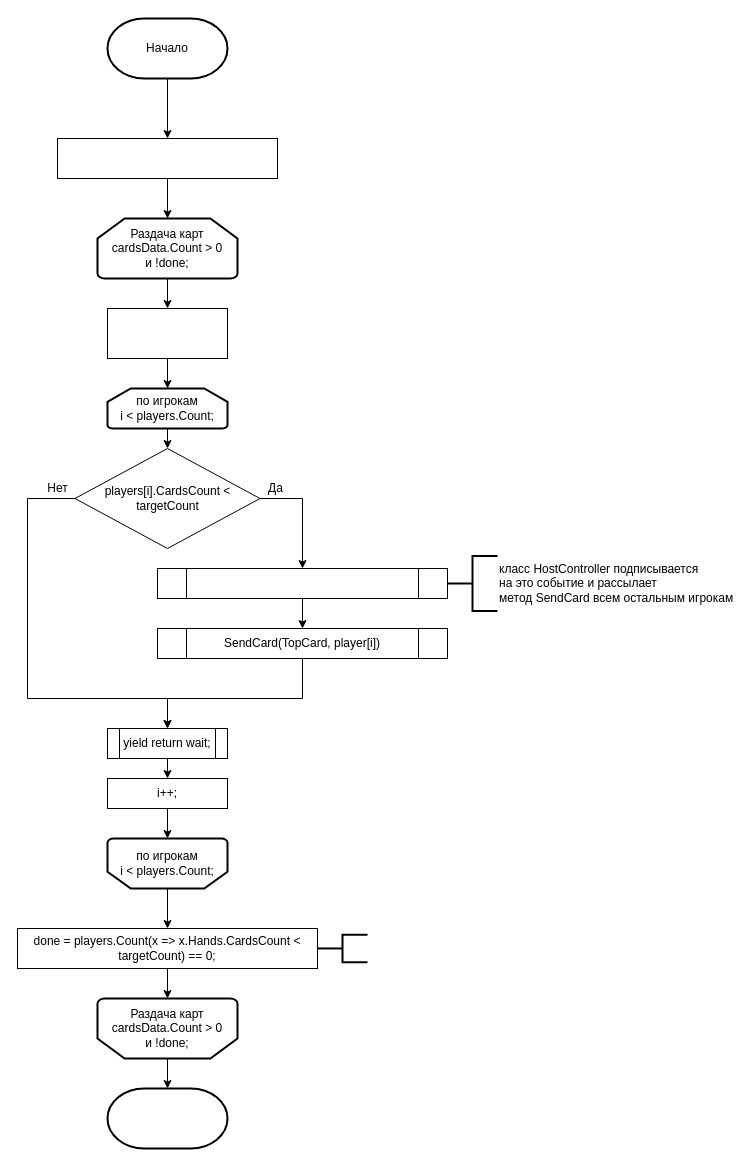
The diagram is 751 pixels wide and 1166 high, and some of its shapes have lost their labels. Each missing label, with the centre of its shape:
int i = 0; int targetCount = 6; bool done = false;: the point at 167,333
OnSendCard?.Invoke(TopCard, player[i]): the point at 302,583
var wait = new WaitForSeconds(0.15f): the point at 167,158
использование Linq: the point at 342,948
Конец: the point at 167,1118
